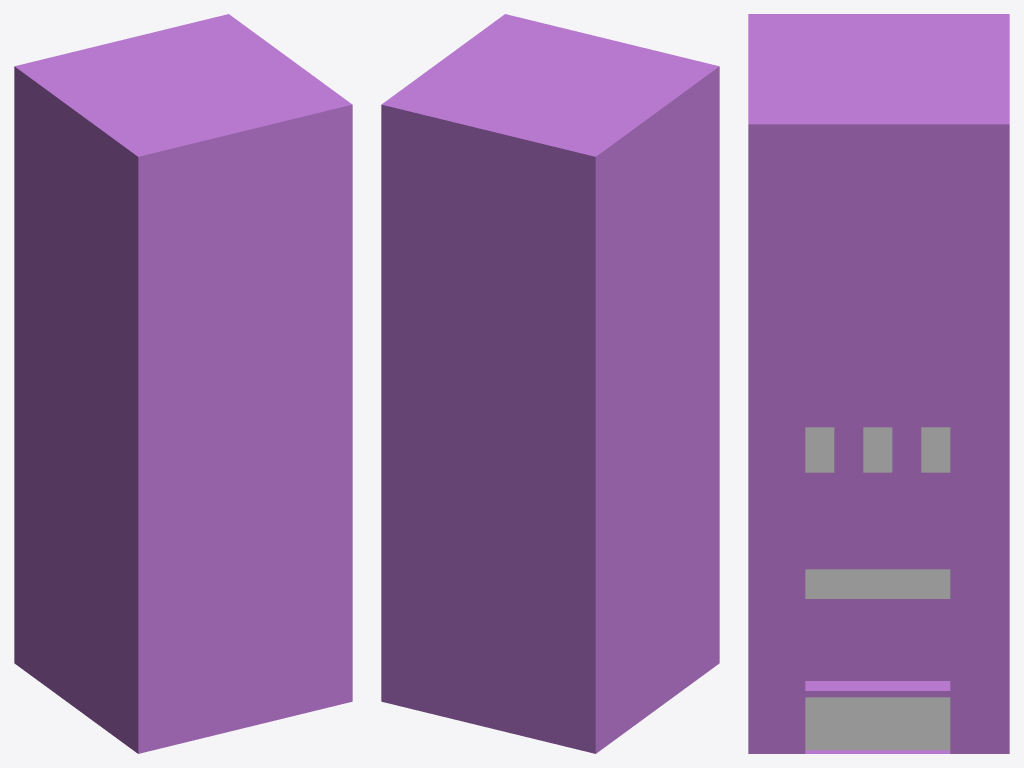
3 renders of one model, left to right at view 1: azimuth 30°, elevation 25°; view 2: azimuth 150°, elevation 25°; view 3: azimuth 270°, elevation 25°, orthographic. The views are drawn at different scales.
Visible parts, largest first — view 1: Cube; view 2: Cube; view 3: Cube.
Boxes of the visible parts, x1,y1,x2,y2 form: Cube: [14, 14, 352, 753]; Cube: [381, 14, 719, 753]; Cube: [748, 14, 1009, 753].
Size of the model in its own units: 425 by 1040 by 391.
